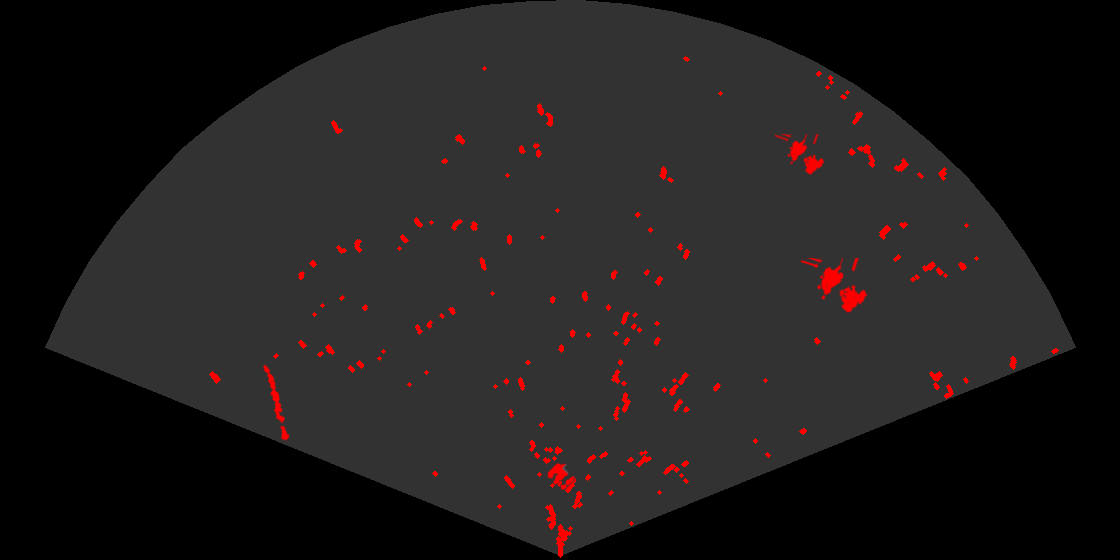ball: (546, 462, 576, 492)
cage: (801, 258, 869, 314), (775, 134, 826, 176)
chain: (262, 363, 291, 442)
